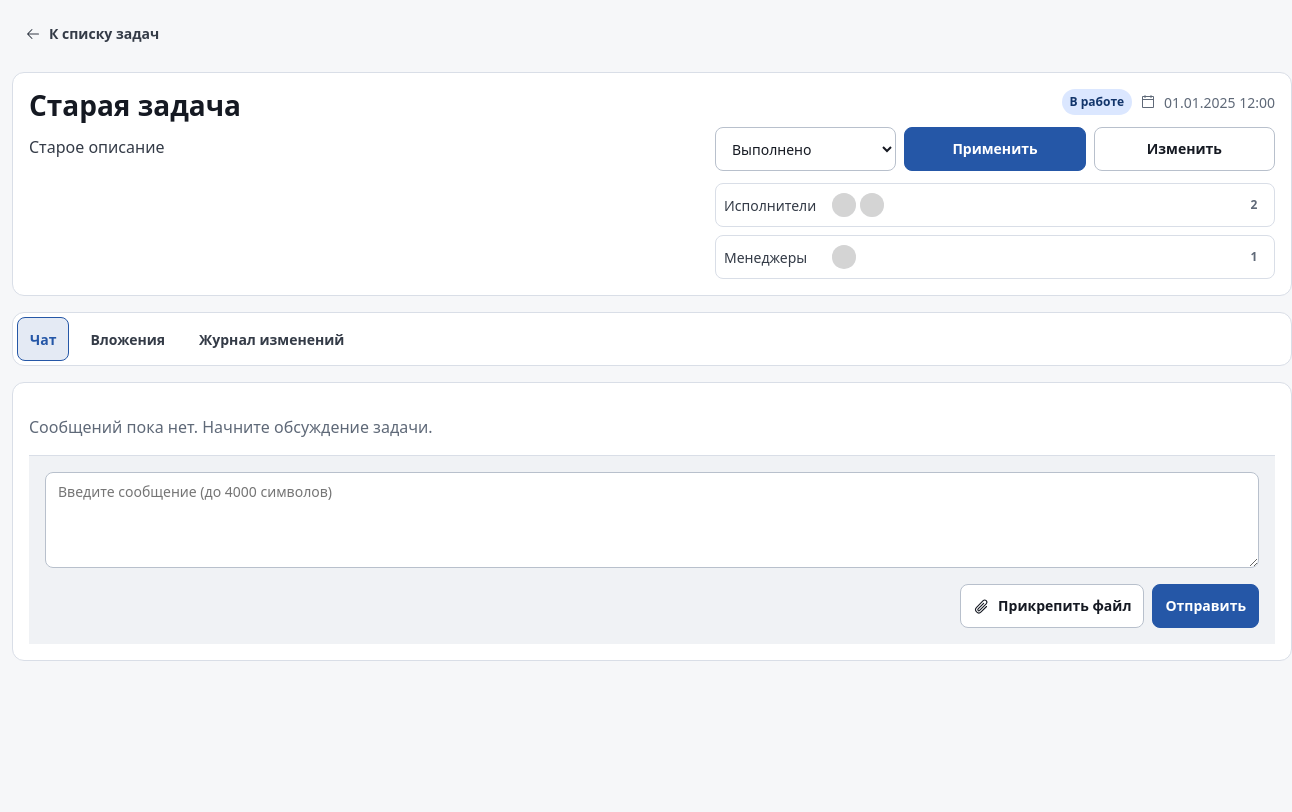
Test: TaskDetailPage edit action › shows task executors and managers as expandable avatar rows
The image size is (1292, 812).
Expected: the heading "Старая задача" is shown, top-left (29, 86), bottom-right (241, 124)
Expected: the element with class "task-hero__action-row" is shown, top-left (1094, 127), bottom-right (1275, 171)
Step 1. Click the button "Исполнители 2" → (770, 205), box top-left (715, 183), bottom-right (1275, 227)
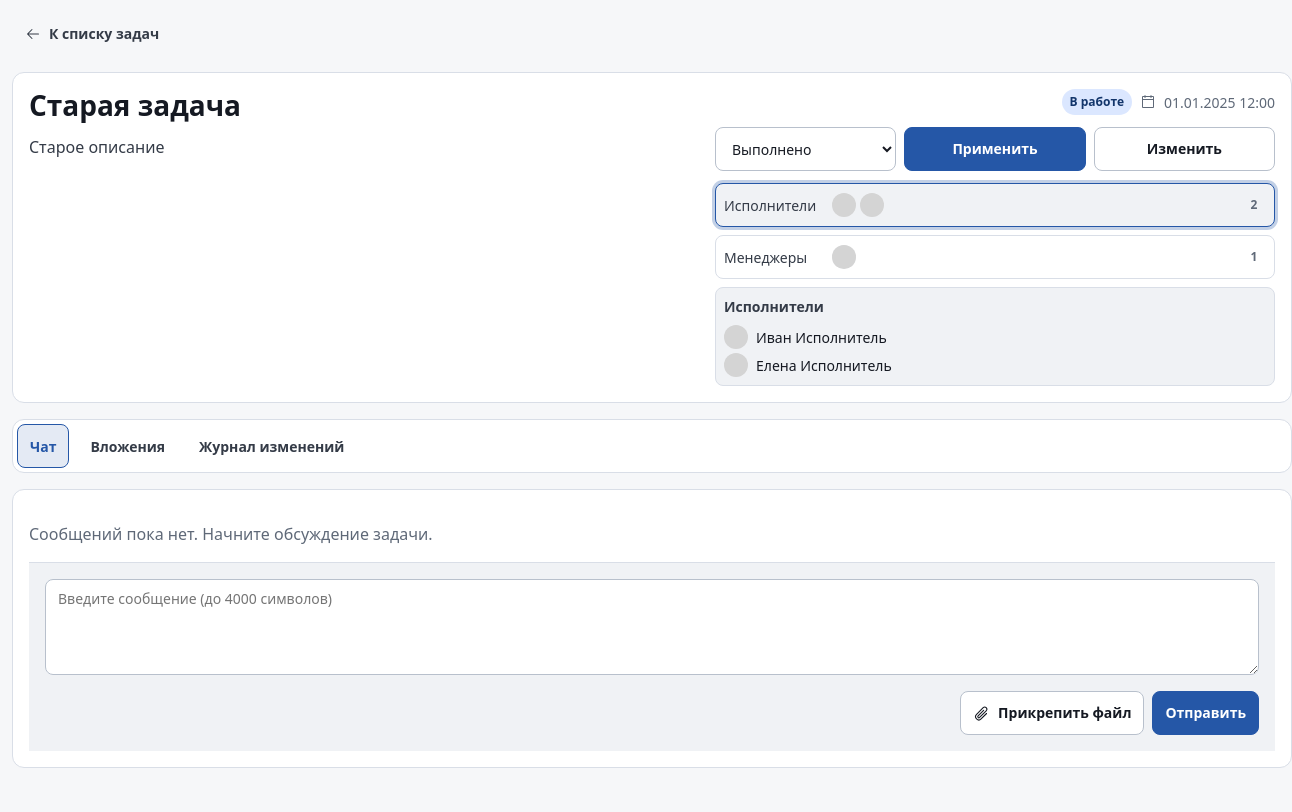
Expected: the text "Мария Менеджер" is not shown
Expected: the text "Иван Исполнитель" is shown, top-left (756, 326), bottom-right (887, 348)
Expected: the text "Елена Исполнитель" is shown, top-left (756, 354), bottom-right (892, 376)
Step 2. Click the button "Менеджеры 1" → (766, 257), box top-left (715, 235), bottom-right (1275, 279)
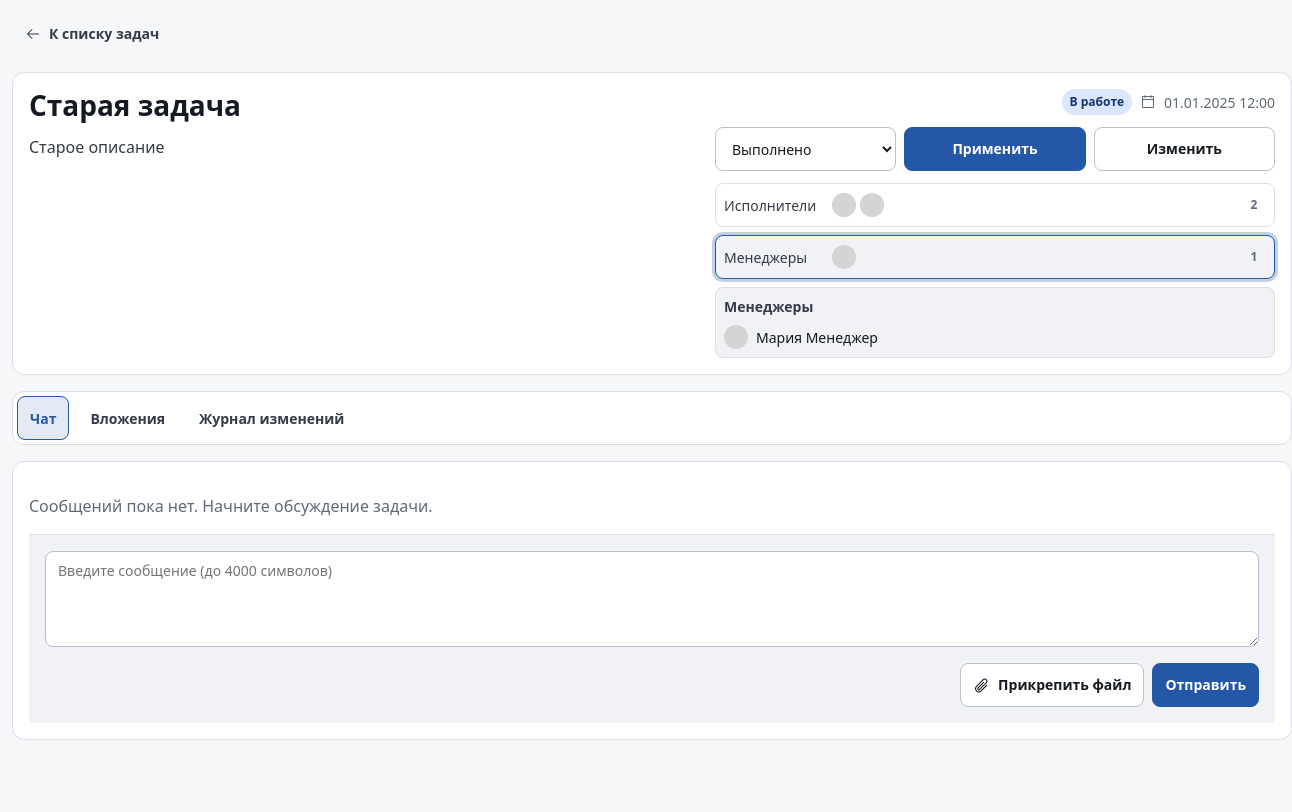
Expected: the text "Мария Менеджер" is shown, top-left (756, 326), bottom-right (878, 348)
Expected: the text "Иван Исполнитель" is gone
